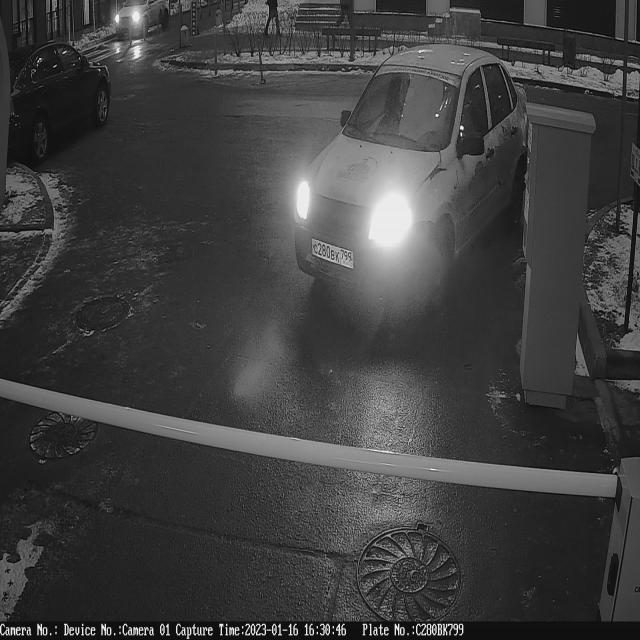car-plate-numbers: (312, 235, 357, 275)
